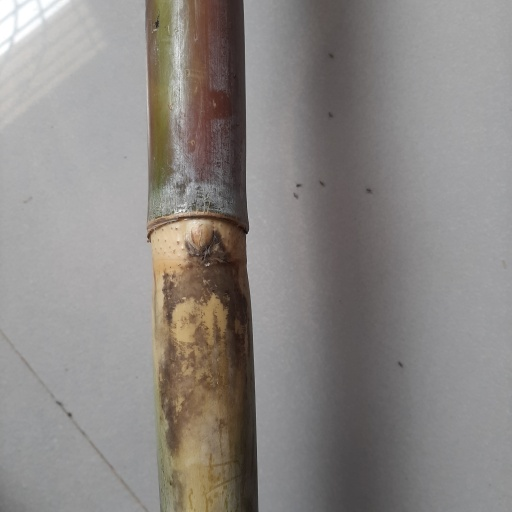Bud: (186, 221, 213, 250)
